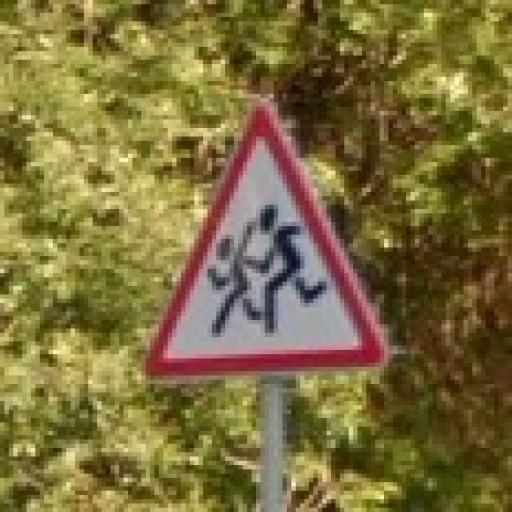traffic_sign: (147, 99, 390, 385)
